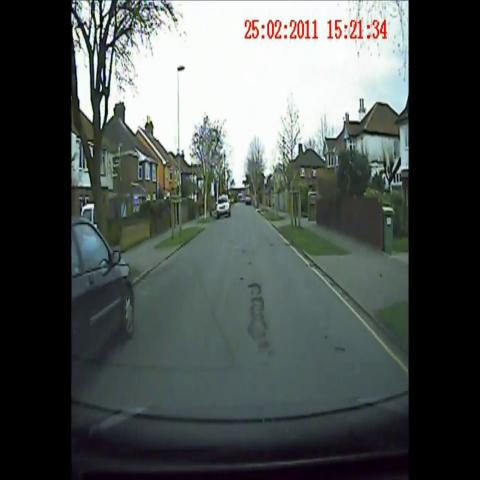pothole: (244, 276, 280, 370), (331, 338, 354, 368), (235, 242, 254, 270), (265, 234, 283, 258)
